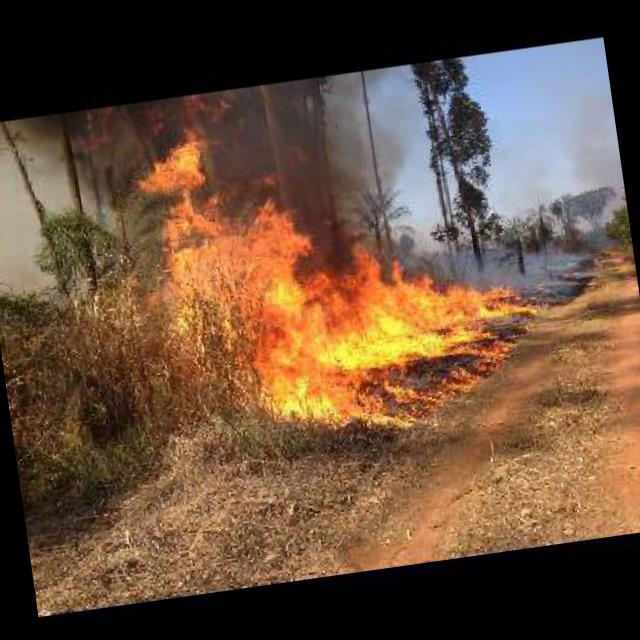fire: (130, 81, 572, 452)
